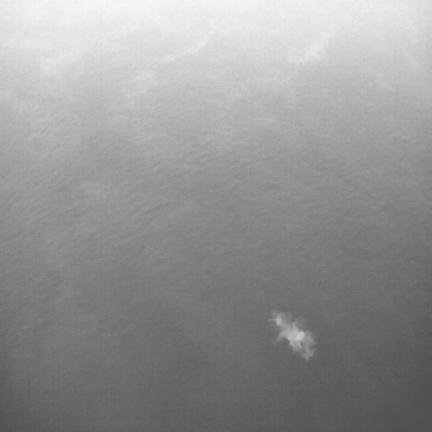flukeprints: (269, 311, 315, 360)
